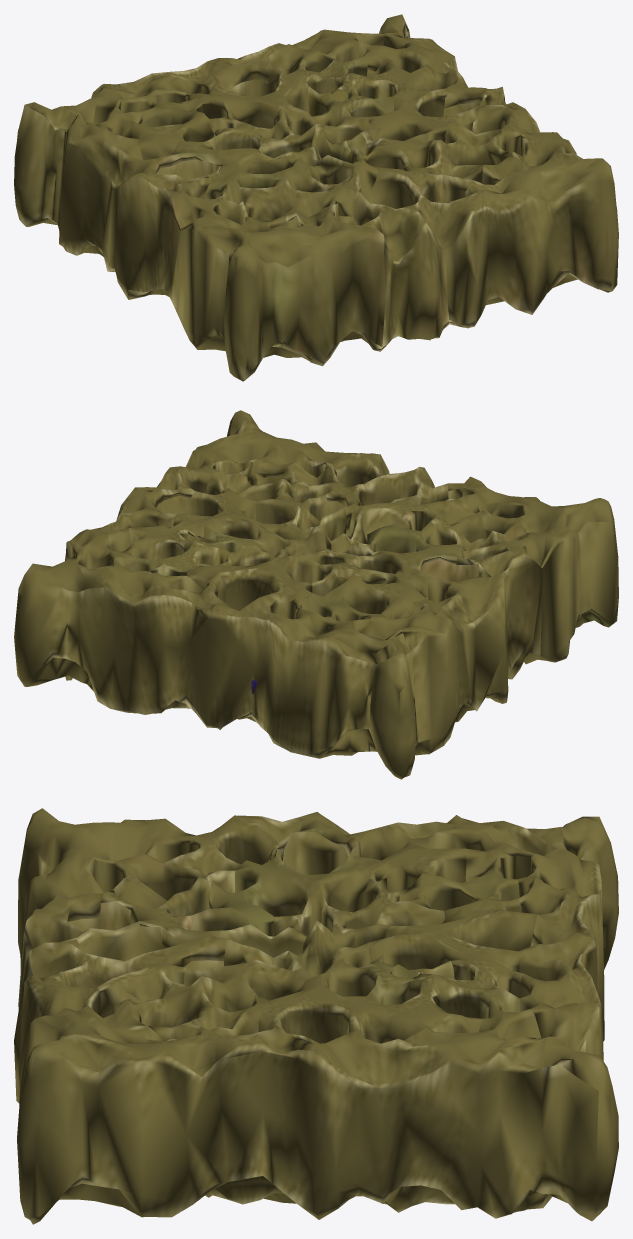
Rendered from tile003V1_lowPolyCompressed.glb.
The picture shows the model from 3 angles, top to bottom: view 1: azimuth 30°, elevation 25°; view 2: azimuth 150°, elevation 25°; view 3: azimuth 270°, elevation 25°; orthographic projection. The views are drawn at different scales.
Parts seen in each view (by area): view 1: tile6.002; view 2: tile6.002; view 3: tile6.002.
Part boxes in pixels (box(x1,y1,x2,y2)): tile6.002: box(14, 14, 618, 381); tile6.002: box(14, 410, 618, 779); tile6.002: box(14, 808, 618, 1224).
Bounding box in the file's own units: 0.9909 × 0.4592 × 0.9788.
Materials: 3 (3 with a texture image).
